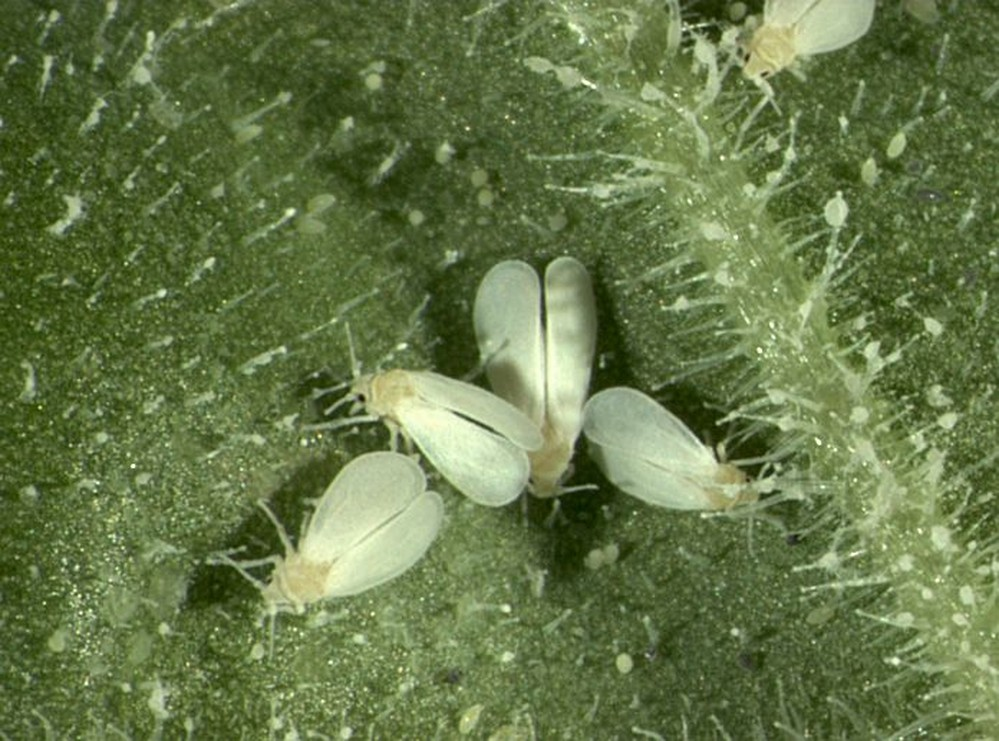Mosca Blanca: (464, 258, 617, 538), (228, 436, 451, 623), (324, 337, 542, 525), (573, 375, 797, 525), (731, 3, 901, 106)
